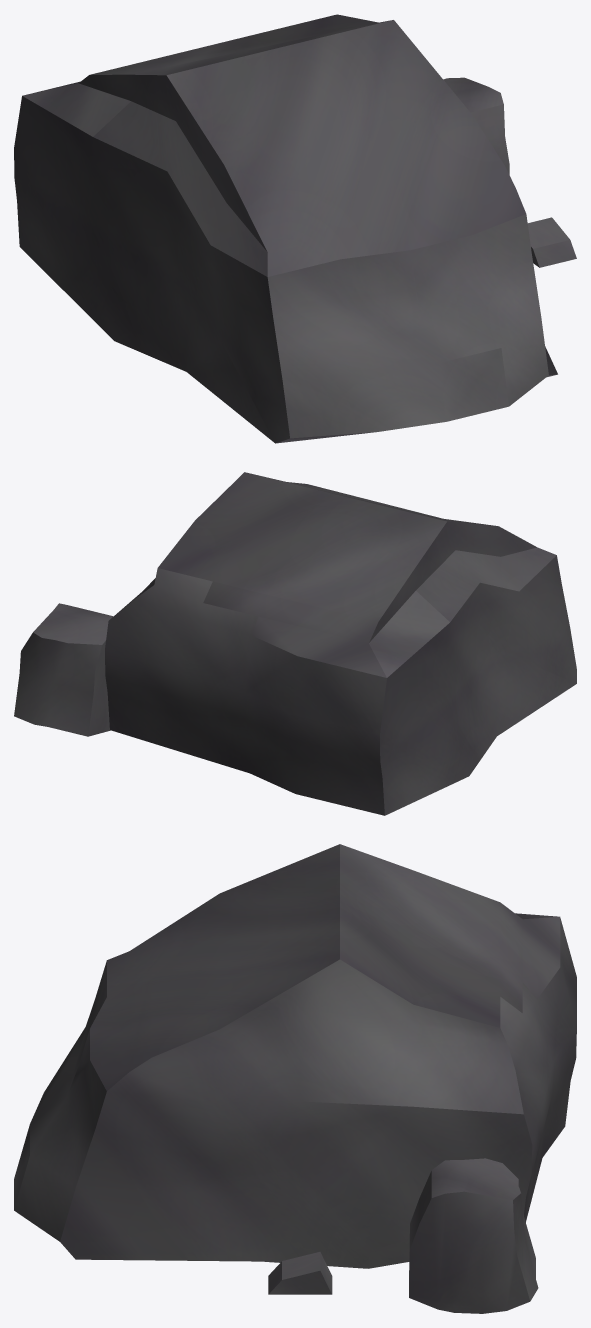
File: batu4.fbx
The picture shows the model from 3 angles, top to bottom: view 1: azimuth 30°, elevation 25°; view 2: azimuth 150°, elevation 25°; view 3: azimuth 270°, elevation 25°; orthographic projection. The views are drawn at different scales.
Parts seen in each view (by area): view 1: batu2; view 2: batu2; view 3: batu2.
Part boxes in pixels (x1,y1,x2,y2): batu2: (14, 14, 576, 443); batu2: (14, 472, 576, 815); batu2: (14, 844, 576, 1313).
Size of the model in its own units: 349 by 209 by 379.
